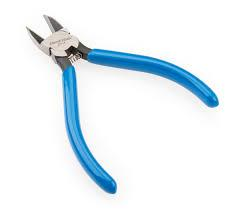pliers: (23, 12, 219, 194)
